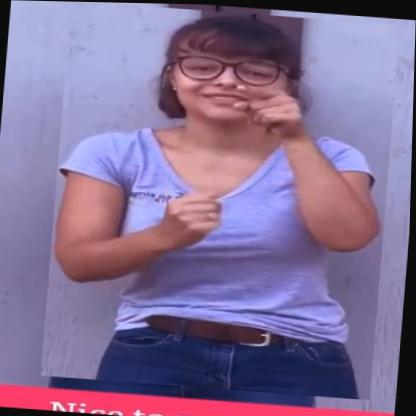NiceToMeetYou: (42, 1, 400, 399)
